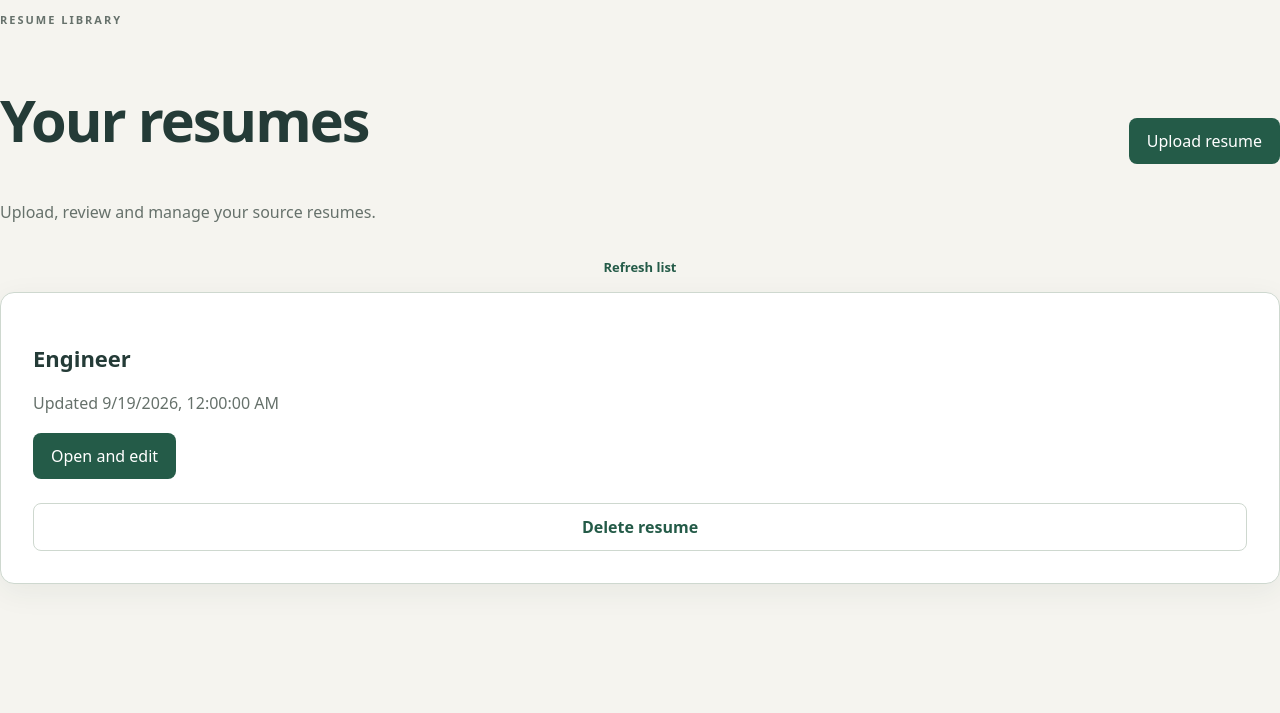
Test: confirms deletion and sends the displayed revision before removing a resume
Click the button "Delete resume": (640, 527) [33,503,1247,551]
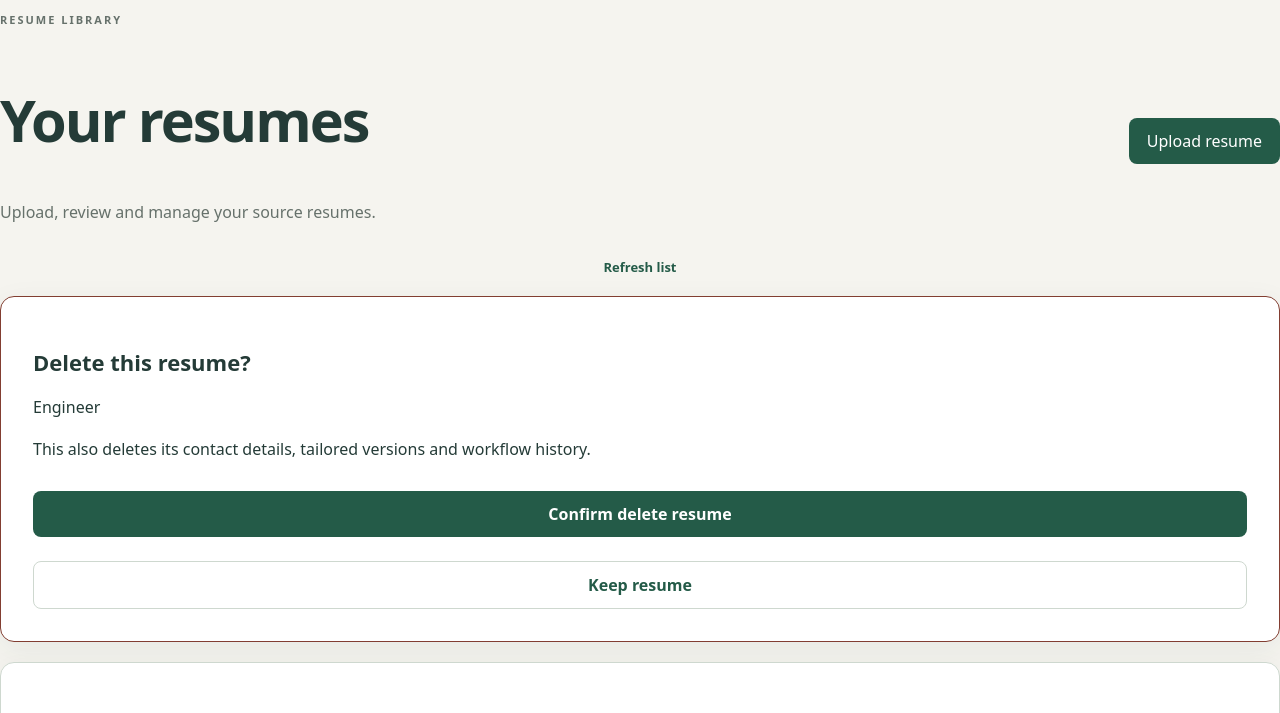
Click the button "Keep resume": (640, 584) [33,560,1247,608]
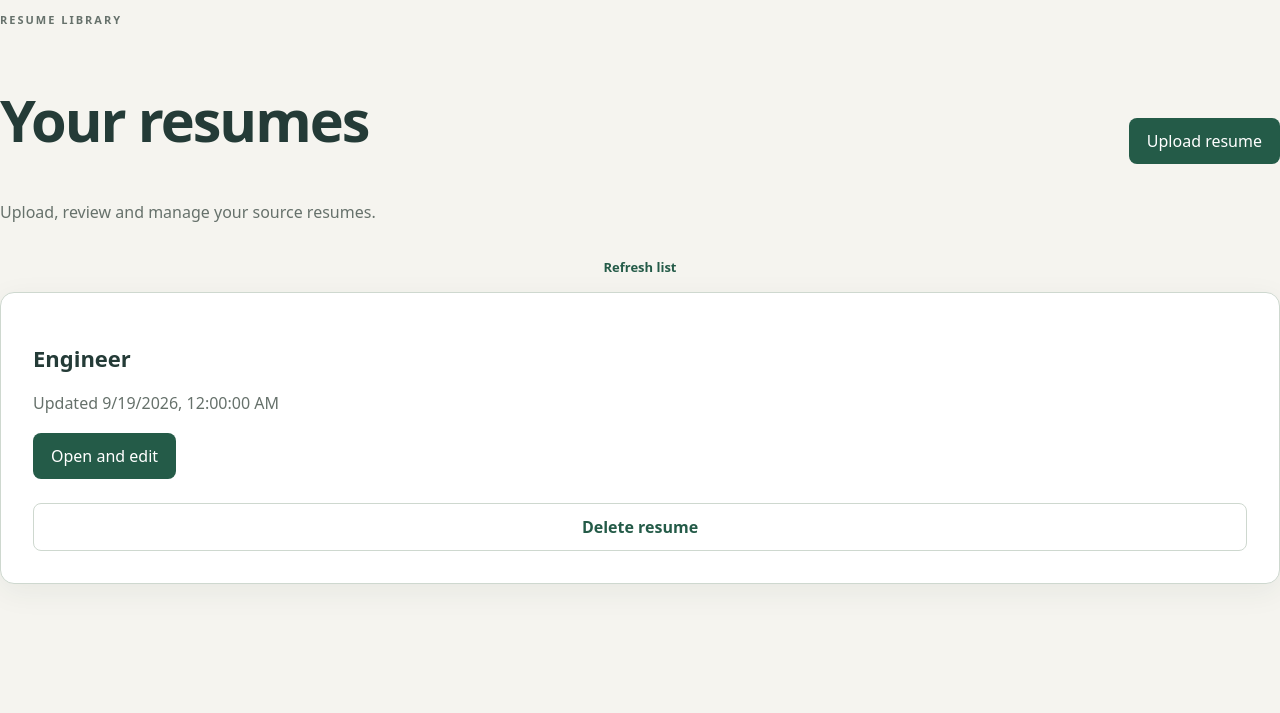
Expected: the dialog is gone
Click the button "Delete resume": (640, 527) [33,503,1247,551]
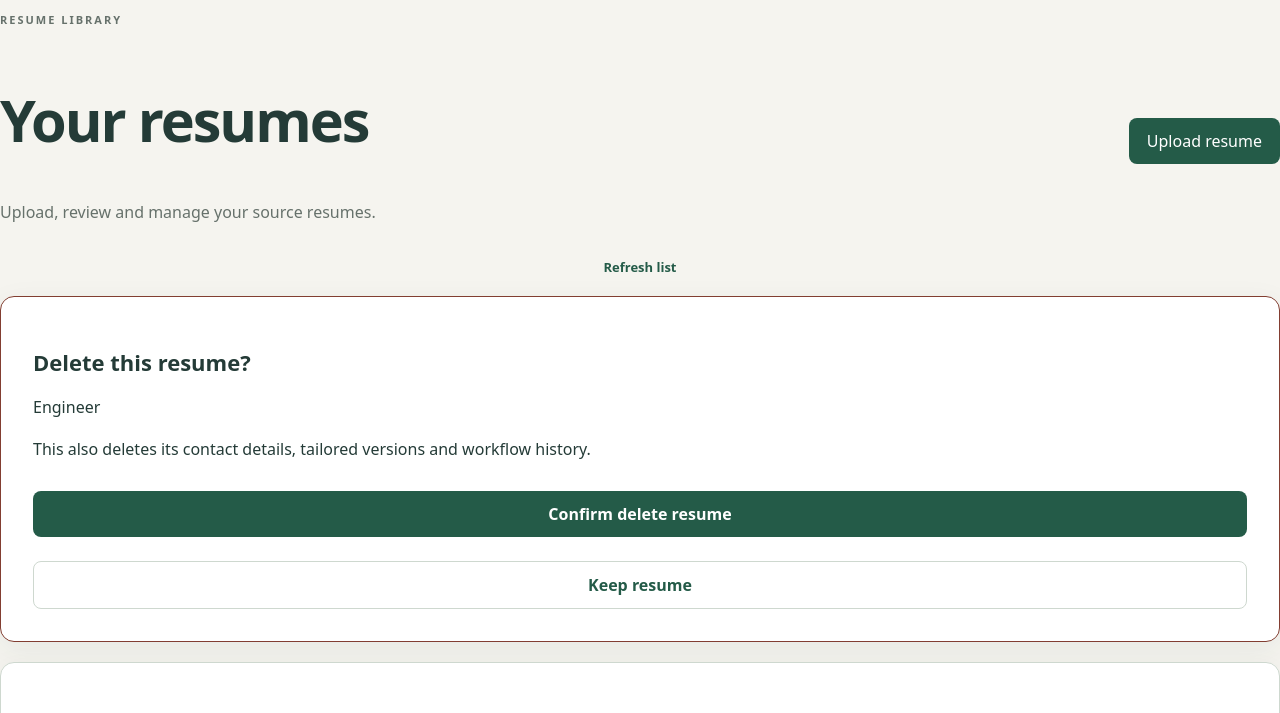
Click the button "Confirm delete resume": (640, 514) [33,490,1247,536]
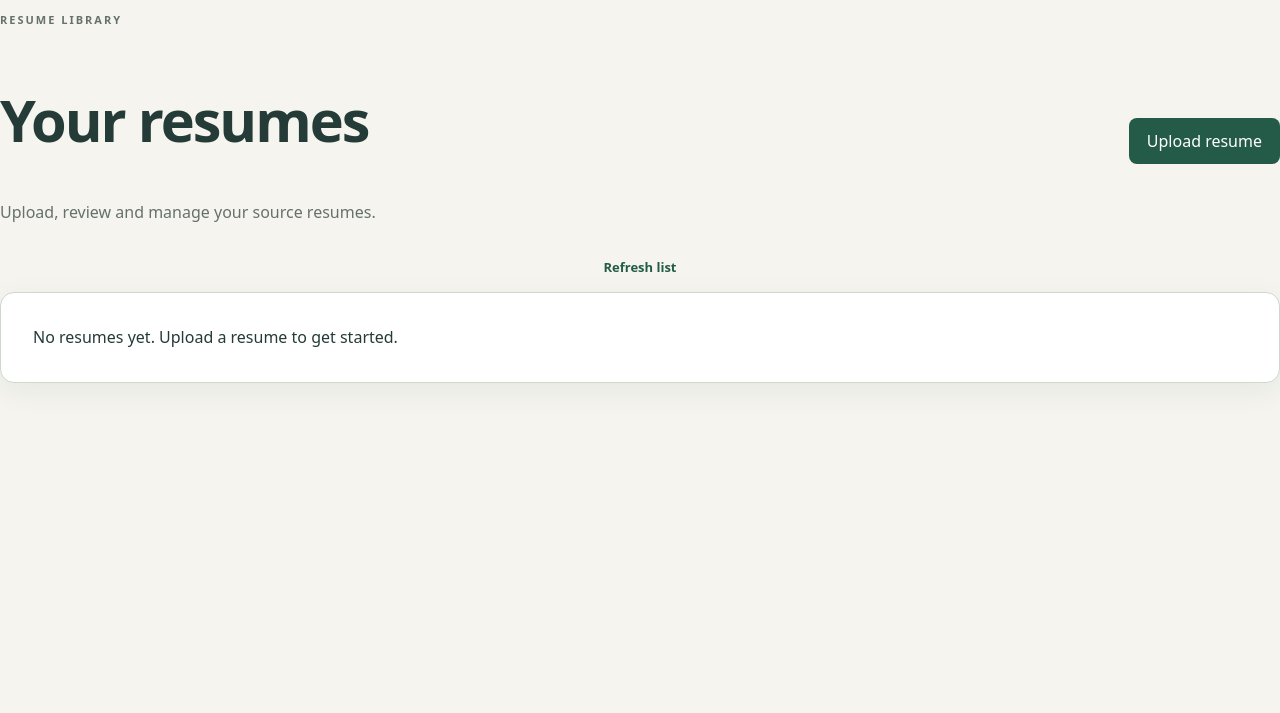
Expected: the text "No resumes yet. Upload a resume to get started." is shown, [0,292,1279,384]
